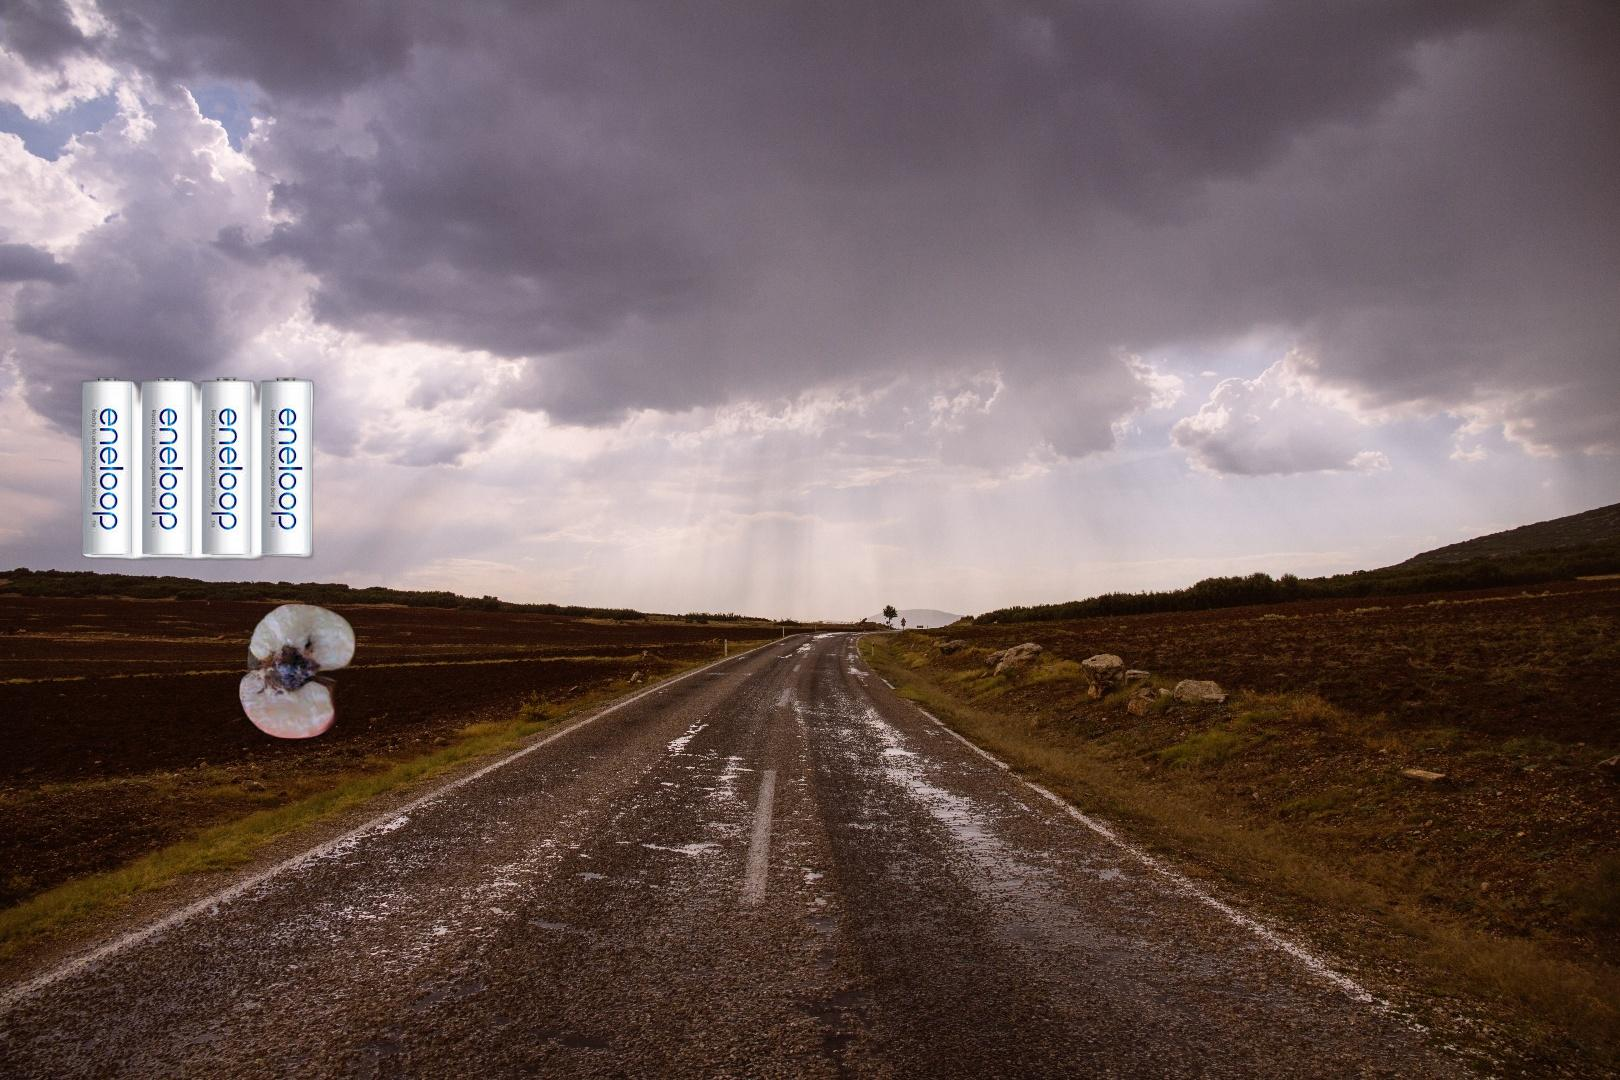battery: (80, 374, 318, 560)
biological: (217, 591, 425, 774)
